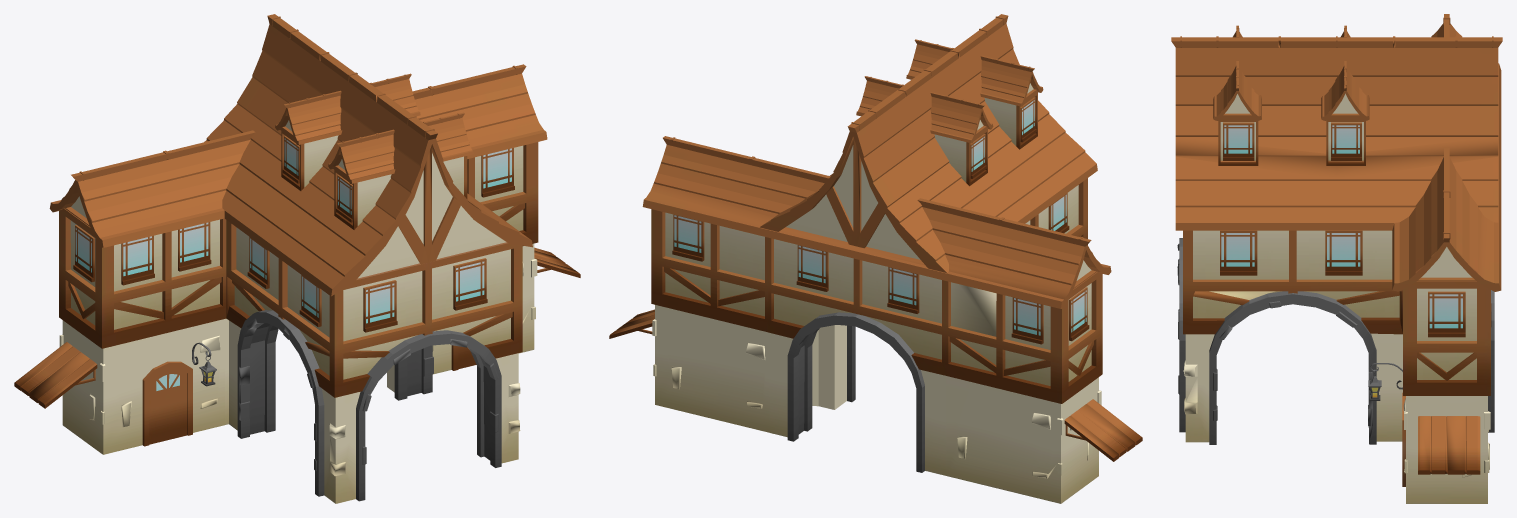
The model's file is inn.glb.
3 views of the same model, side by side, from view 1: azimuth 30°, elevation 25°; view 2: azimuth 150°, elevation 25°; view 3: azimuth 270°, elevation 25° (orthographic). The views are drawn at different scales.
Visible parts, largest first — view 1: inn; view 2: inn; view 3: inn.
Boxes of the visible parts, x1,y1,x2,y2 form: inn: [14, 14, 580, 503]; inn: [609, 14, 1142, 503]; inn: [1171, 14, 1502, 503].
Size of the model in its own units: 18.15 by 11.44 by 9.58.
1 material, 1 textured.
